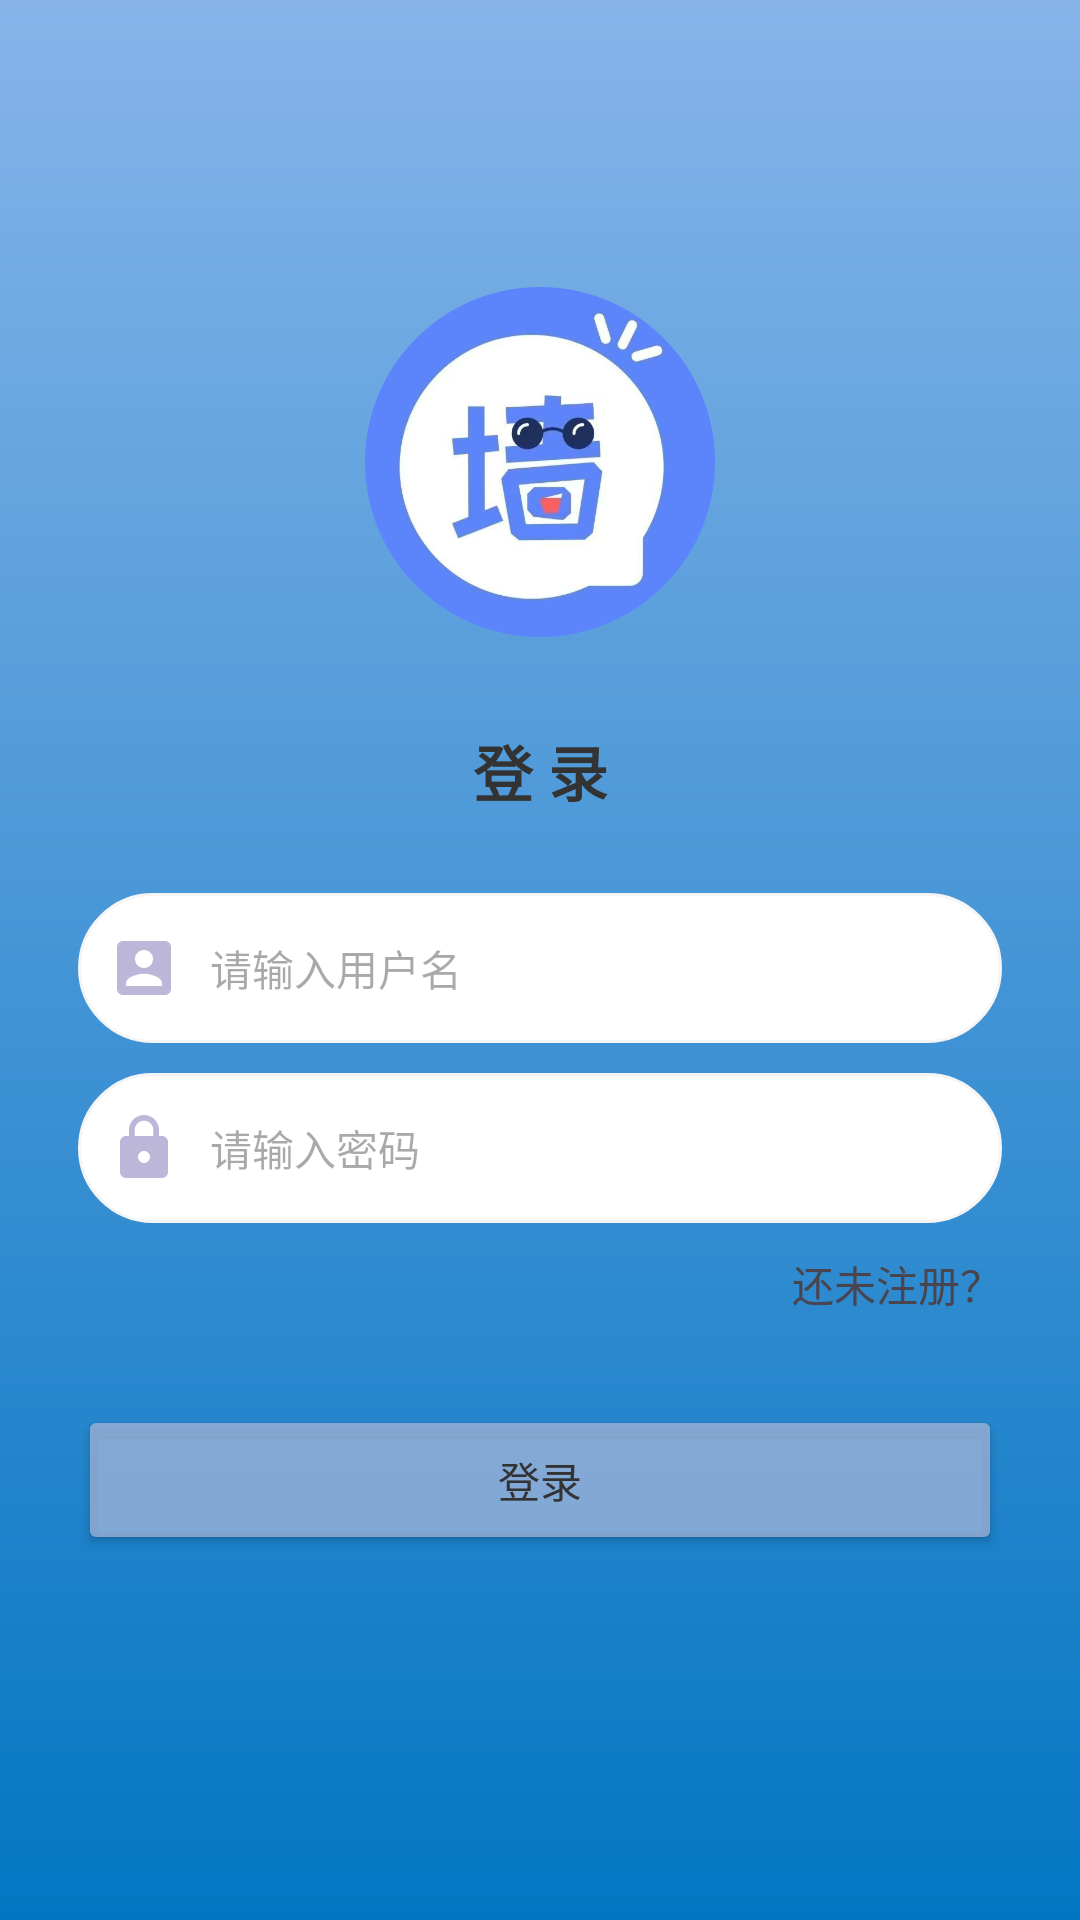

Screen size 1080x1920. Icon name, then its box in pixels as (x1, y1, x2, y2):
account box: (117, 941, 171, 995)
